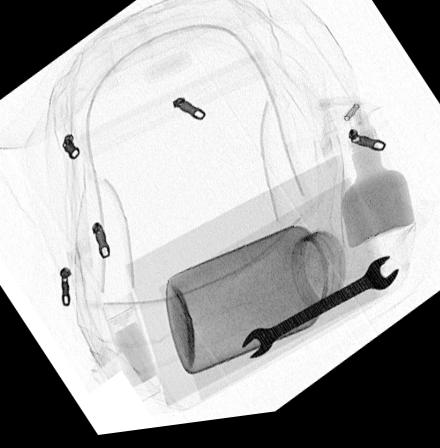Wrench: (239, 265, 400, 367)
